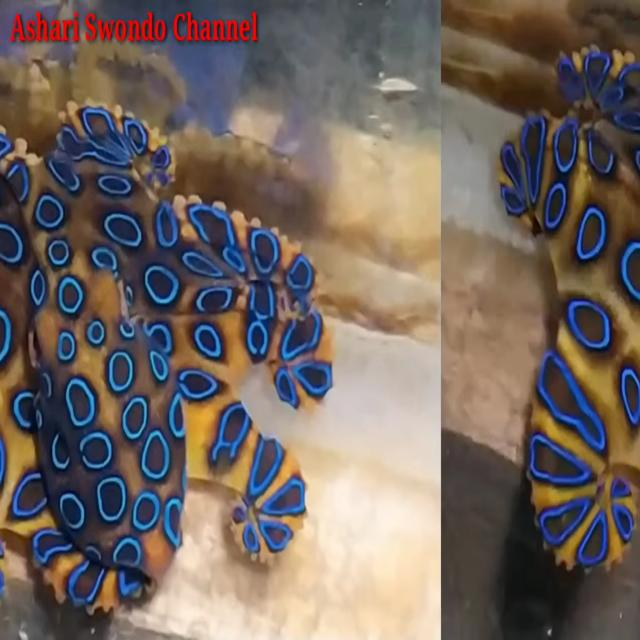blue_ringed_octopus: (0, 96, 333, 616), (496, 44, 640, 572)
